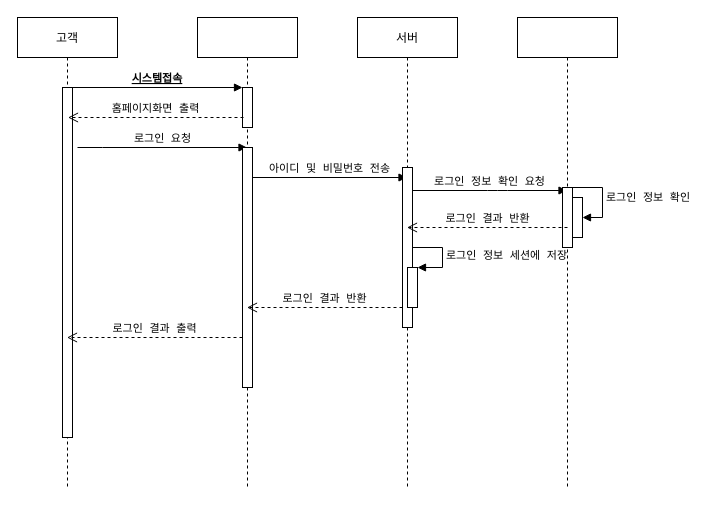
This 708x505 diagram has some shape labels left out. Here are the shapes that lost their labels. From the top down, the box of each, then its label:
(196, 16, 298, 488): 화면
(516, 16, 618, 488): DB
